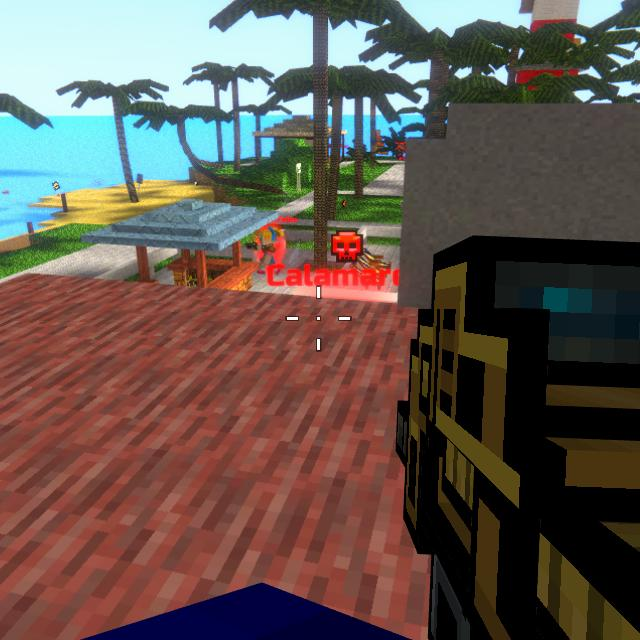Enemy: (397, 146, 404, 158)
